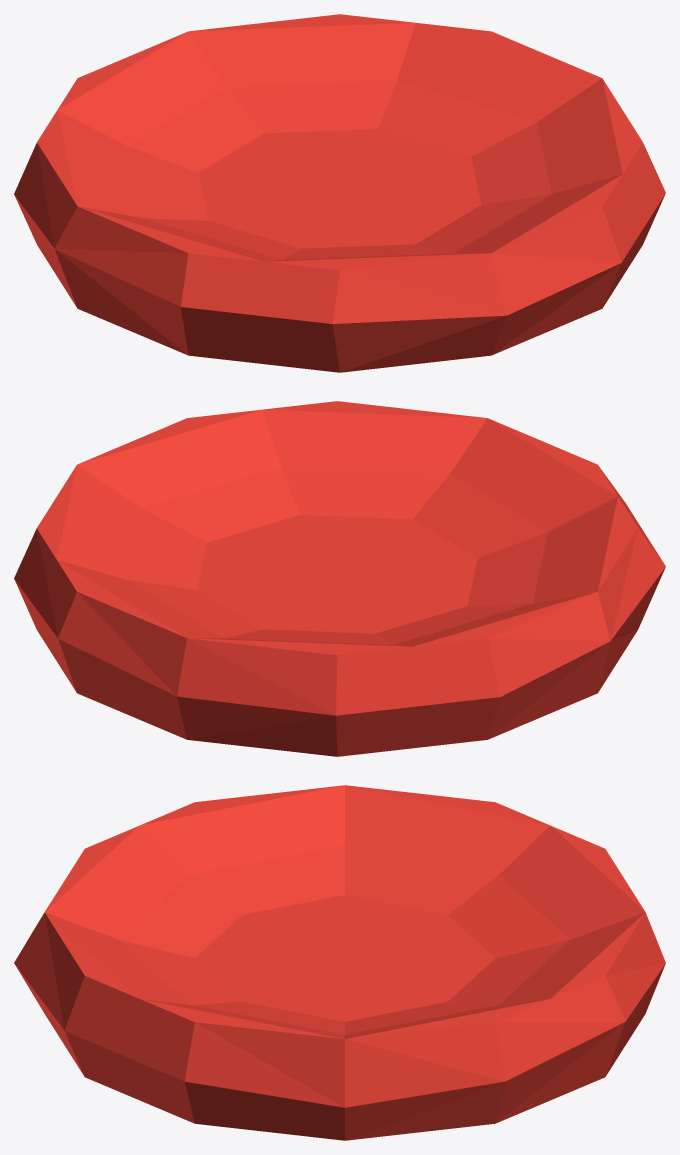
The picture shows the model from 3 angles, top to bottom: view 1: azimuth 30°, elevation 25°; view 2: azimuth 150°, elevation 25°; view 3: azimuth 270°, elevation 25°; orthographic projection.
Visible parts, largest first — view 1: mesh_677441463; view 2: mesh_677441463; view 3: mesh_677441463.
Part boxes in pixels (x1,y1,x2,y2): mesh_677441463: (14,14,665,372); mesh_677441463: (14,401,665,756); mesh_677441463: (14,785,665,1140).
Size of the model in its own units: 63 by 11 by 64.
